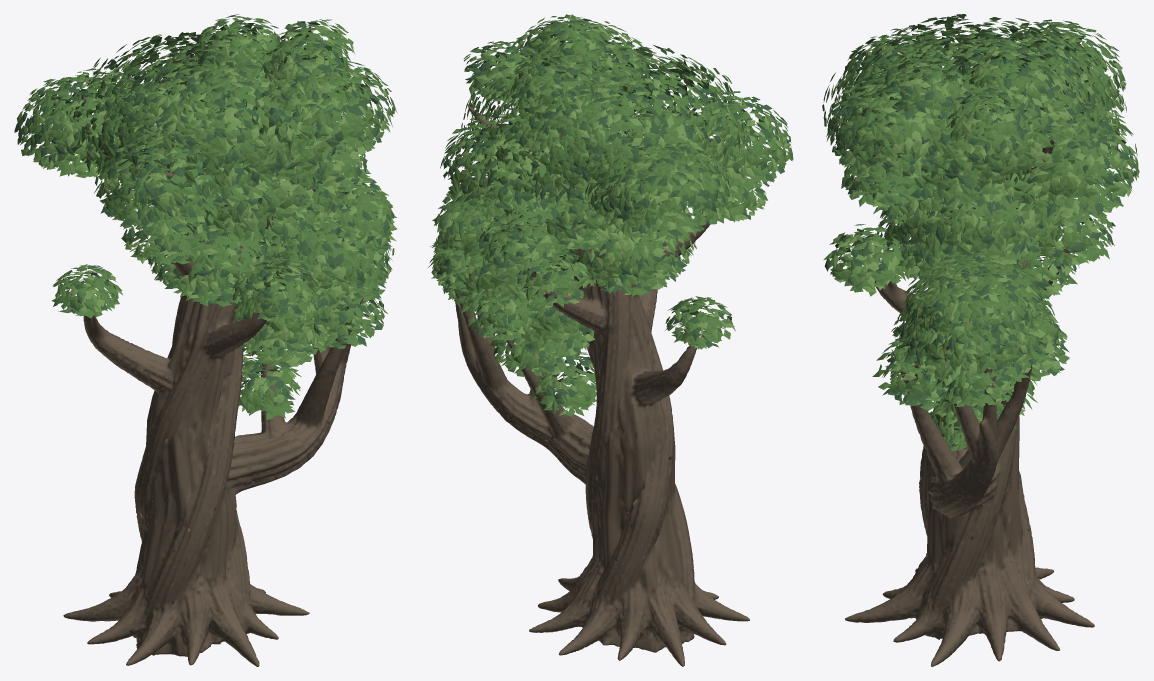
File: WorldTree_FantasyBough.fbx
3 views of the same model, side by side, from view 1: azimuth 30°, elevation 25°; view 2: azimuth 150°, elevation 25°; view 3: azimuth 270°, elevation 25° (orthographic). The views are drawn at different scales.
Parts seen in each view (by area): view 1: WorldTree_FantasyBough; view 2: WorldTree_FantasyBough; view 3: WorldTree_FantasyBough.
Boxes of the visible parts, x1,y1,x2,y2 form: WorldTree_FantasyBough: (14, 14, 397, 666); WorldTree_FantasyBough: (428, 14, 793, 666); WorldTree_FantasyBough: (822, 14, 1139, 666).
Bounding box in the file's own units: 24.19 × 42 × 19.7.
